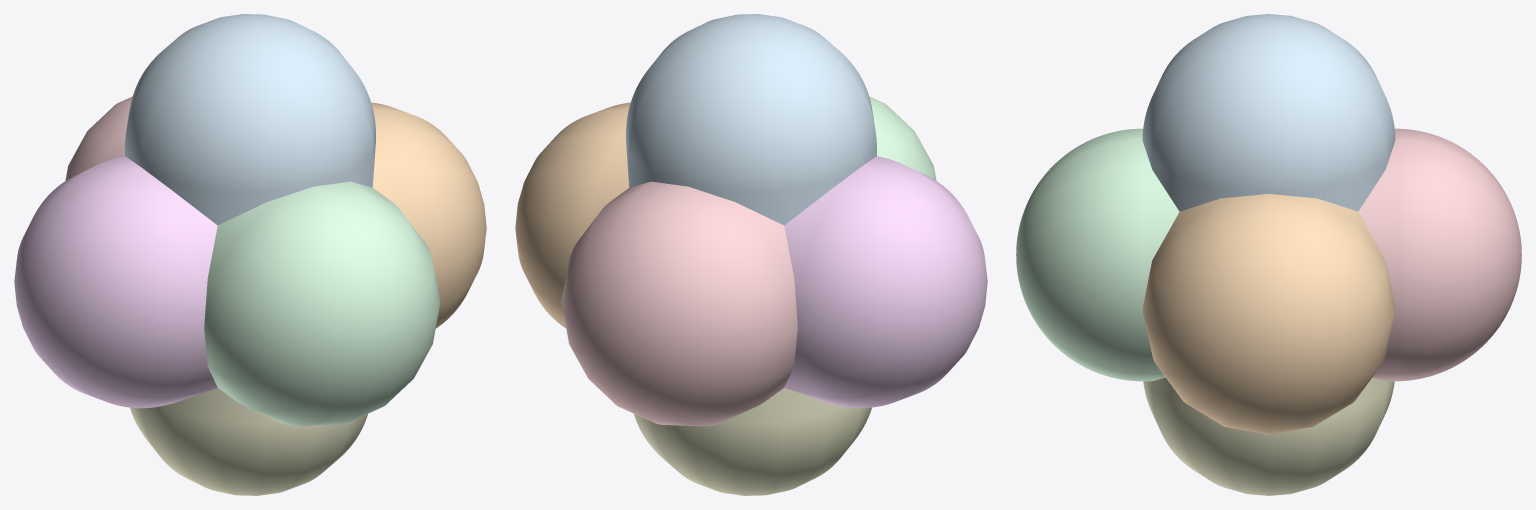
3 renders of one model, left to right at view 1: azimuth 30°, elevation 25°; view 2: azimuth 150°, elevation 25°; view 3: azimuth 270°, elevation 25°, orthographic.
Visible parts, largest first — view 1: Capsule.2-Mat.3, Capsule.2-Mat.5, Capsule.2-Mat, Capsule.2-Mat.1, Capsule.2-Mat.4, Capsule.2-Mat.2; view 2: Capsule.2-Mat.2, Capsule.2-Mat.5, Capsule.2-Mat, Capsule.2-Mat.1, Capsule.2-Mat.4, Capsule.2-Mat.3; view 3: Capsule.2-Mat.4, Capsule.2-Mat, Capsule.2-Mat.3, Capsule.2-Mat.2, Capsule.2-Mat.1.
Part boxes in pixels (left/top/right/bottom): Capsule.2-Mat.3: left=204, top=181, right=440, bottom=426; Capsule.2-Mat.5: left=14, top=156, right=217, bottom=408; Capsule.2-Mat: left=125, top=14, right=375, bottom=225; Capsule.2-Mat.1: left=130, top=387, right=367, bottom=495; Capsule.2-Mat.4: left=371, top=102, right=486, bottom=328; Capsule.2-Mat.2: left=65, top=96, right=132, bottom=180; Capsule.2-Mat.2: left=561, top=181, right=797, bottom=426; Capsule.2-Mat.5: left=784, top=156, right=987, bottom=408; Capsule.2-Mat: left=626, top=14, right=876, bottom=225; Capsule.2-Mat.1: left=634, top=387, right=871, bottom=495; Capsule.2-Mat.4: left=515, top=102, right=630, bottom=328; Capsule.2-Mat.3: left=869, top=96, right=936, bottom=180; Capsule.2-Mat.4: left=1142, top=194, right=1395, bottom=434; Capsule.2-Mat: left=1142, top=14, right=1395, bottom=211; Capsule.2-Mat.3: left=1016, top=128, right=1179, bottom=381; Capsule.2-Mat.2: left=1358, top=128, right=1521, bottom=381; Capsule.2-Mat.1: left=1143, top=377, right=1394, bottom=495.
Bounding box in the file's own units: 200 × 200 × 200.
